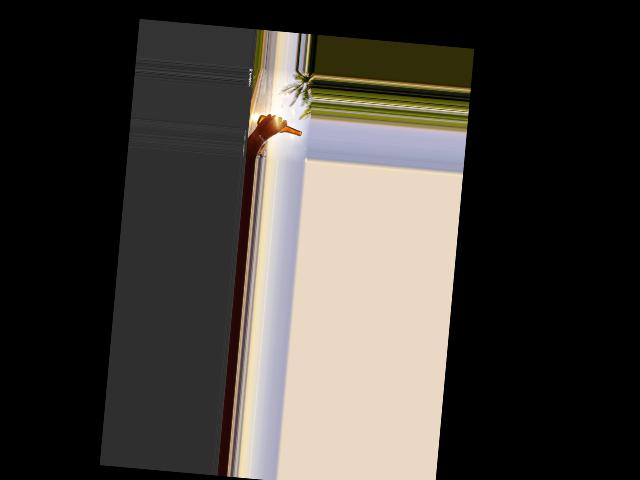beer: (256, 115, 302, 136)
